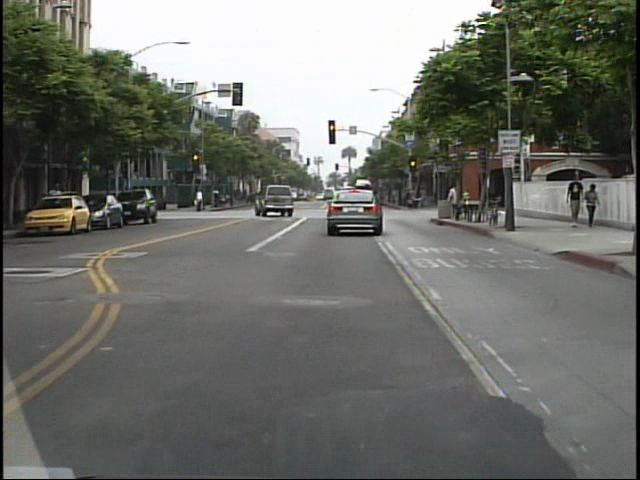person: (562, 173, 584, 229), (582, 181, 604, 231), (443, 182, 464, 224), (194, 187, 206, 214)
